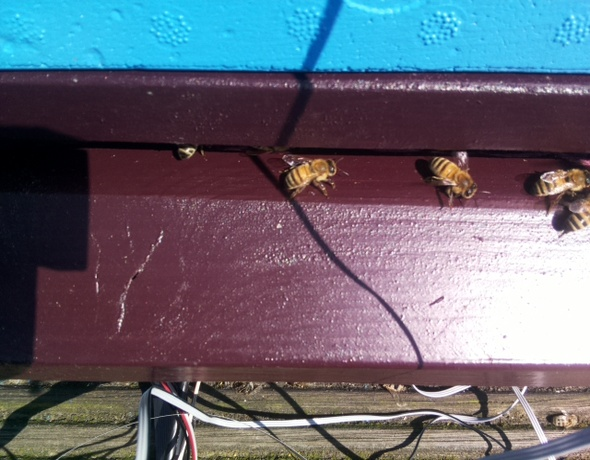no_pollen: (277, 150, 340, 197), (427, 152, 481, 206), (530, 163, 590, 202), (558, 194, 590, 242), (174, 142, 206, 163)
